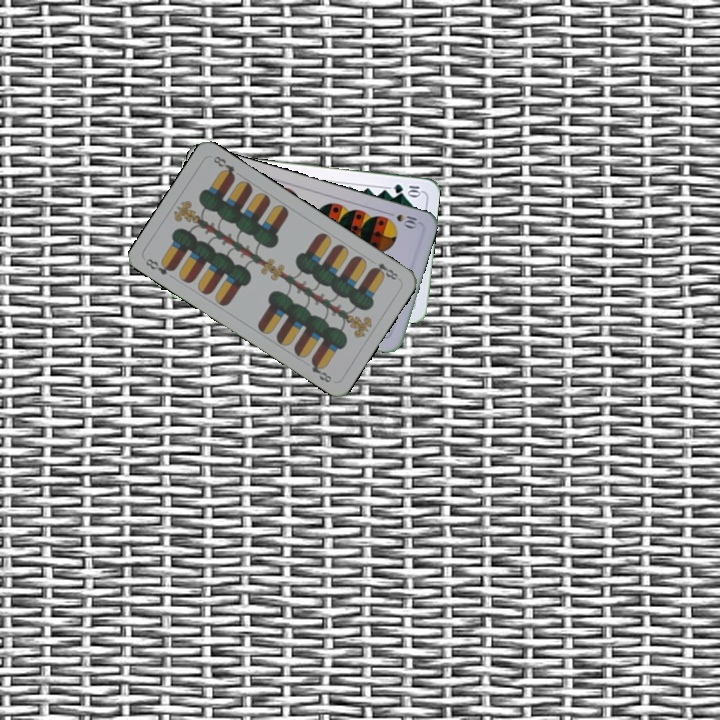E8: (141, 254, 177, 278), (367, 259, 402, 283)
G10: (390, 180, 424, 198)
S10: (392, 210, 421, 231)
